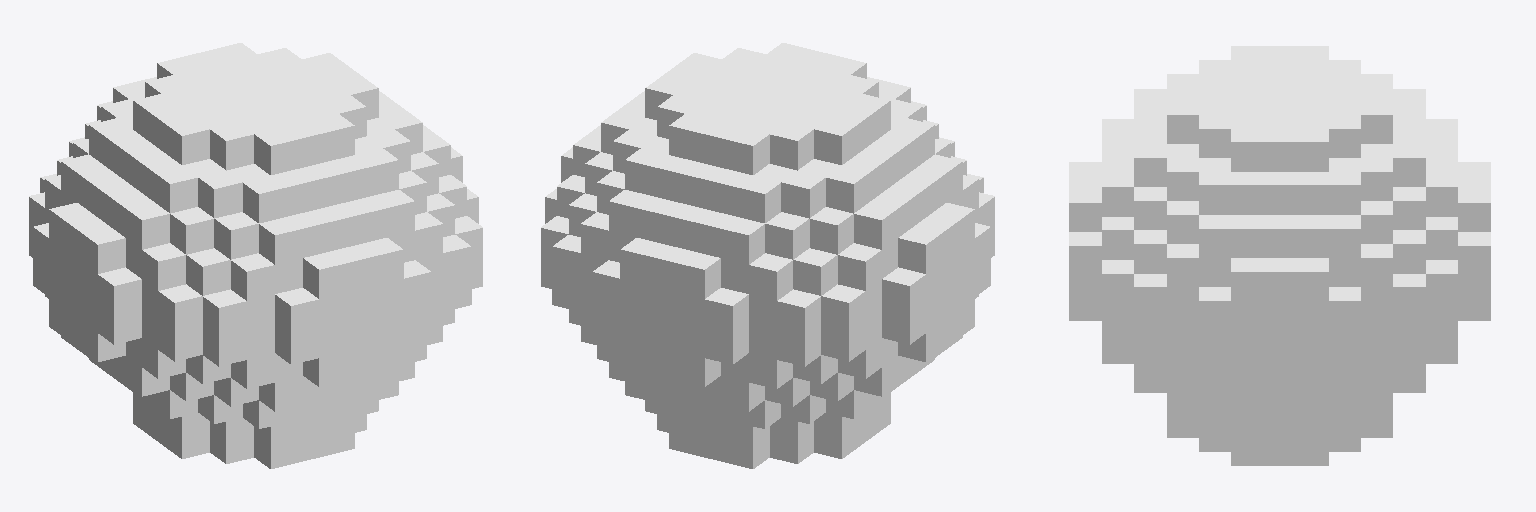
File: cactus-short.obj
3 renders of one model, left to right at view 1: azimuth 30°, elevation 25°; view 2: azimuth 150°, elevation 25°; view 3: azimuth 270°, elevation 25°, orthographic.
Visible parts, largest first — view 1: cactus-short; view 2: cactus-short; view 3: cactus-short.
Part boxes in pixels (x1,y1,x2,y2): cactus-short: (29,43,482,468); cactus-short: (541,43,994,468); cactus-short: (1069,46,1490,465).
Size of the model in its own units: 13 by 11 by 13.